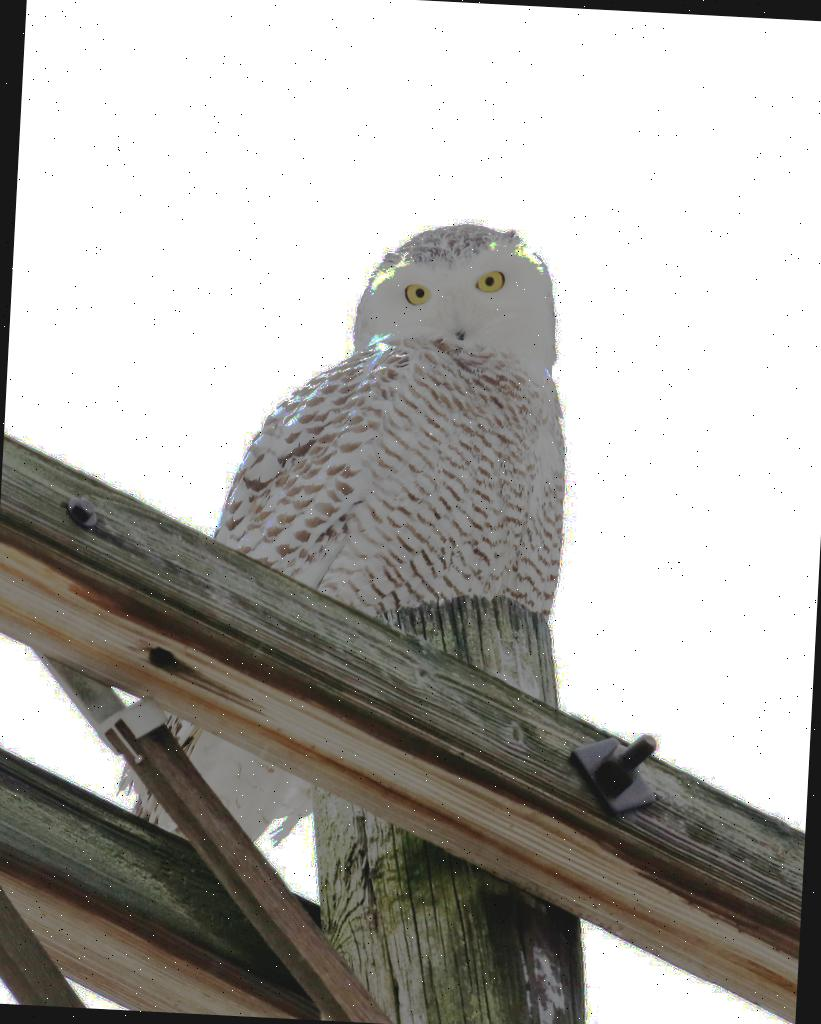Owl: (80, 184, 608, 870)
